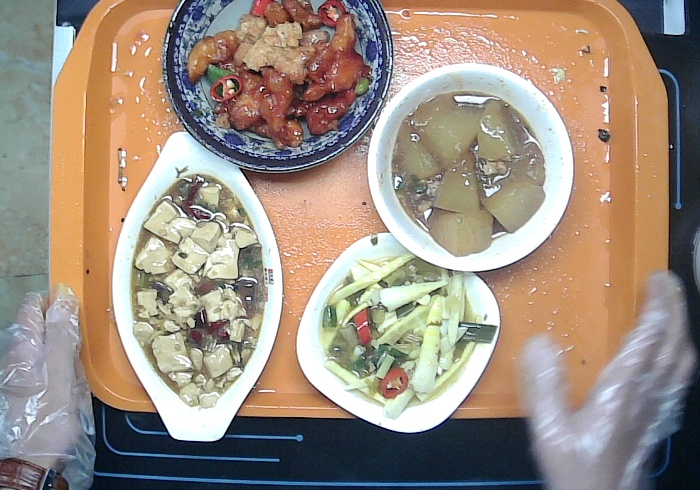ZNLD-Qing_Hua_Wan: (161, 1, 394, 174)
ZNLD-Si_Fang_Wan: (294, 229, 502, 434)
ZNLD-Tang_Wan: (365, 61, 576, 273)
ZNLD-Yu_Pan: (111, 129, 284, 444)
